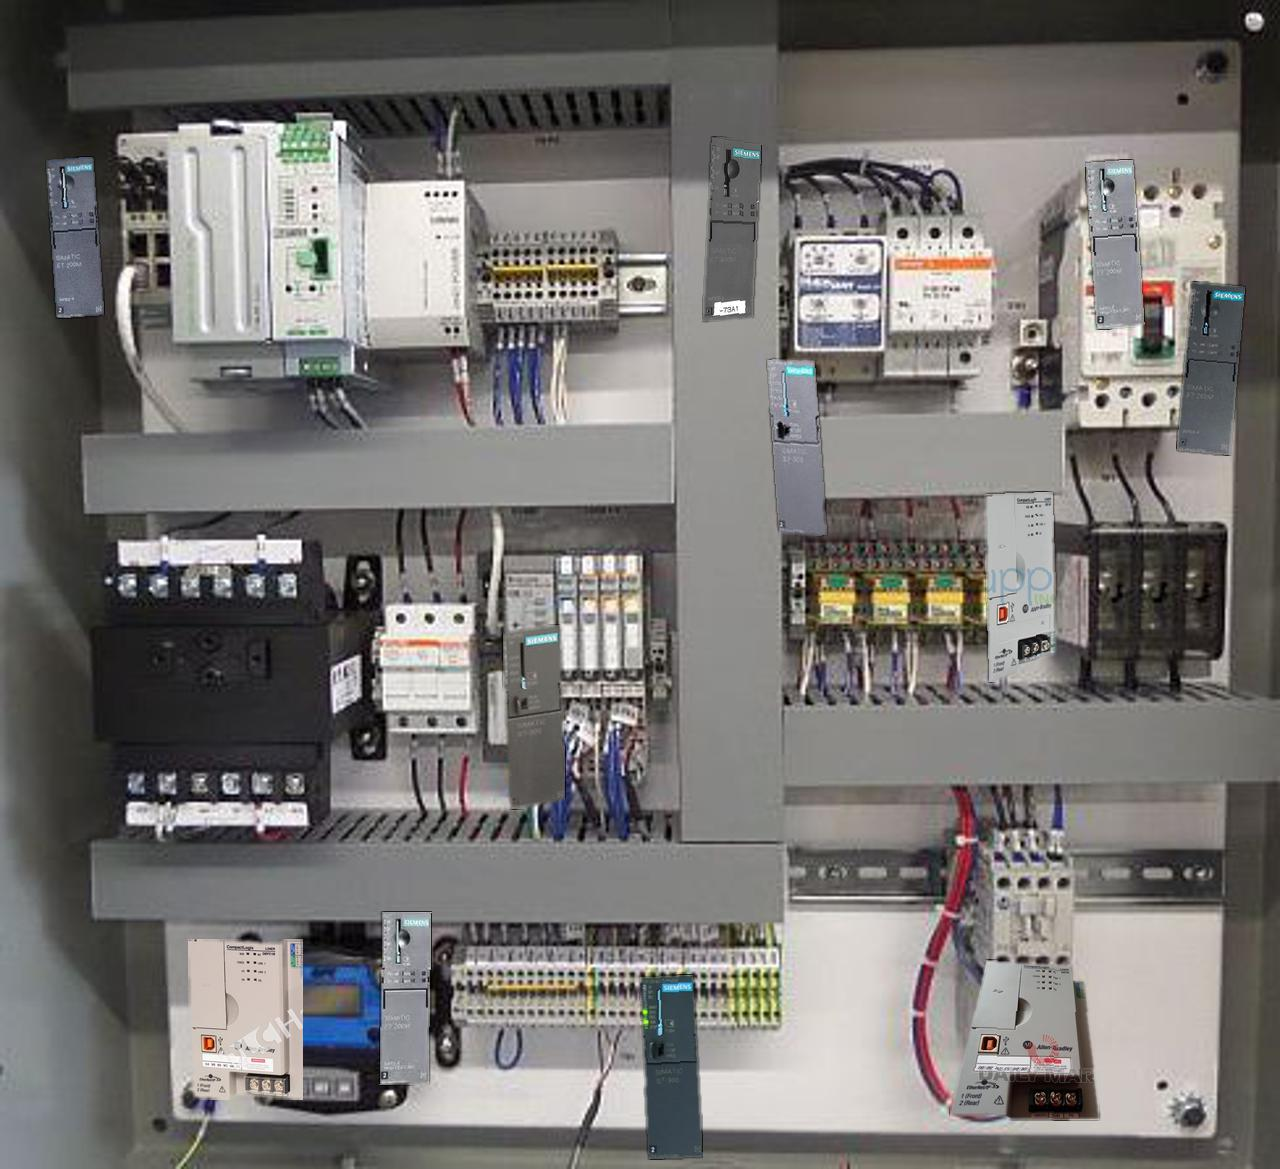AllenBradley: (950, 960, 1098, 1119), (188, 939, 302, 1099), (985, 492, 1055, 682)
Siemens: (503, 625, 564, 808), (641, 975, 702, 1158), (768, 359, 825, 535)
